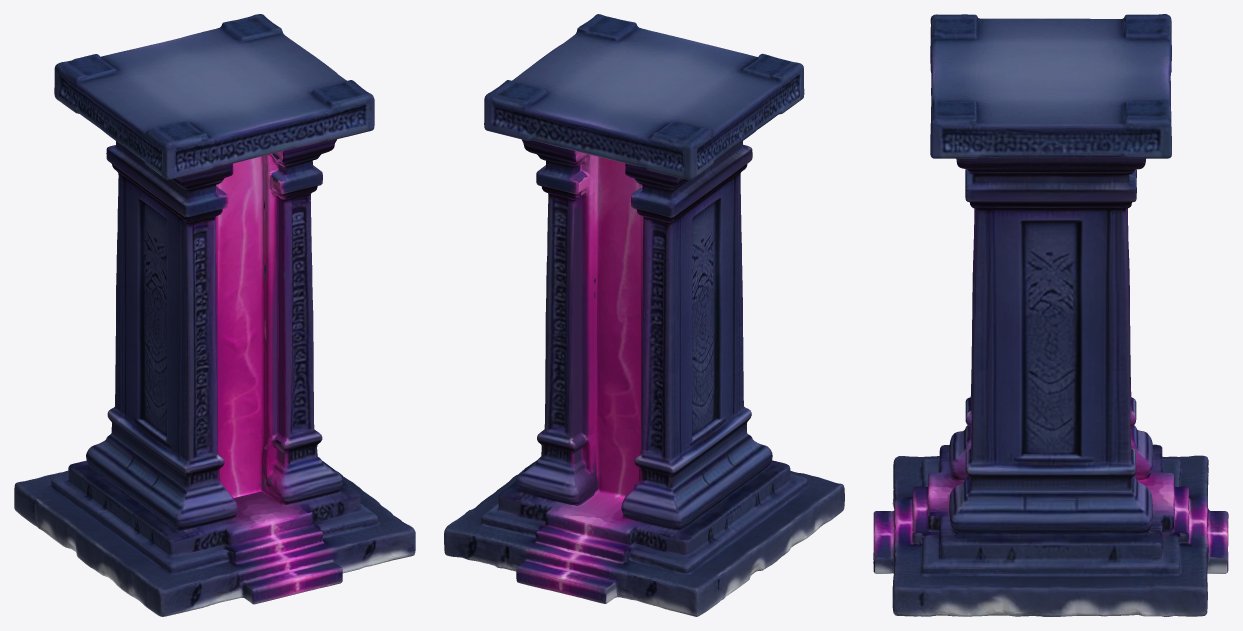
The model's file is weathered-monolith-pillar-generated-2026-04-19T23-30-13-924Z.medium.glb.
3 views of the same model, side by side, from view 1: azimuth 30°, elevation 25°; view 2: azimuth 150°, elevation 25°; view 3: azimuth 270°, elevation 25° (orthographic). The views are drawn at different scales.
Parts seen in each view (by area): view 1: temp_mesh.ply; view 2: temp_mesh.ply; view 3: temp_mesh.ply.
Boxes of the visible parts, bbox=[...] form: temp_mesh.ply: bbox=[14, 14, 415, 616]; temp_mesh.ply: bbox=[444, 14, 844, 616]; temp_mesh.ply: bbox=[873, 14, 1228, 616].
Bounding box in the file's own units: 1.17 × 1.97 × 1.31.
Materials: 1 (1 with a texture image).
